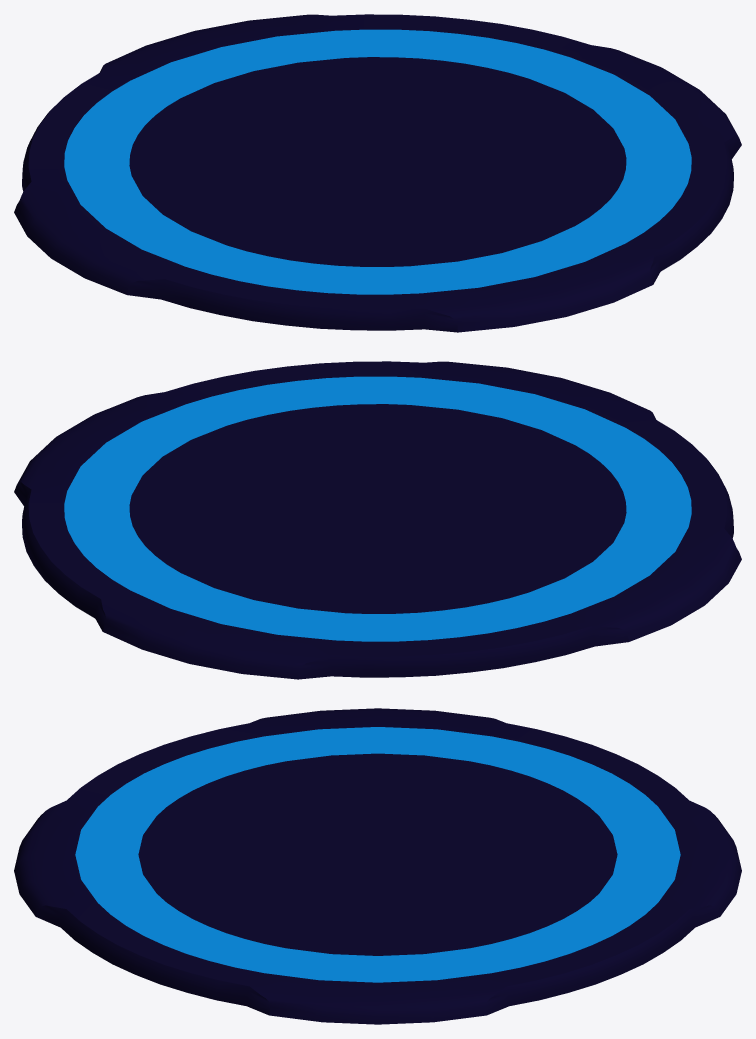
Rendered from Arena.fbx.
The picture shows the model from 3 angles, top to bottom: view 1: azimuth 30°, elevation 25°; view 2: azimuth 150°, elevation 25°; view 3: azimuth 270°, elevation 25°; orthographic projection. The views are drawn at different scales.
Visible parts, largest first — view 1: BeybladeArena; view 2: BeybladeArena; view 3: BeybladeArena.
Boxes of the visible parts, x1,y1,x2,y2 form: BeybladeArena: [14, 14, 741, 332]; BeybladeArena: [14, 361, 741, 679]; BeybladeArena: [14, 708, 741, 1024].
Bounding box in the file's own units: 1899 × 50.32 × 1899.
